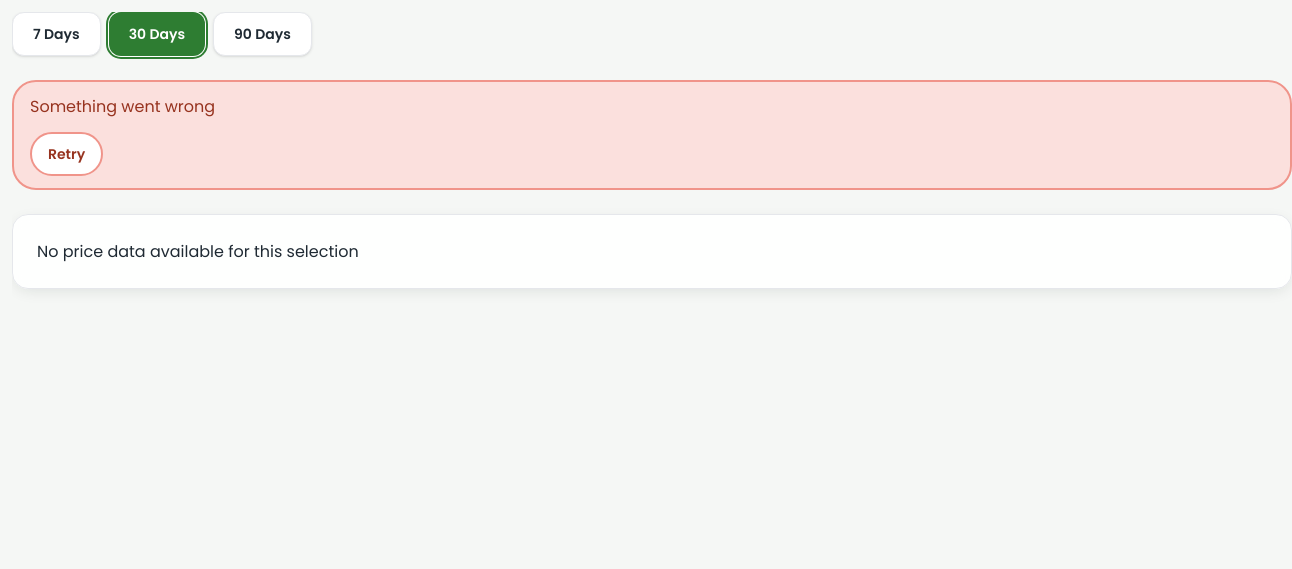
Scenario: recovers from an error via Retry
Expected: the text "Something went wrong" is shown, [30, 94, 215, 120]
Click the button "Retry". click: x=67, y=154
box: [30, 132, 103, 176]
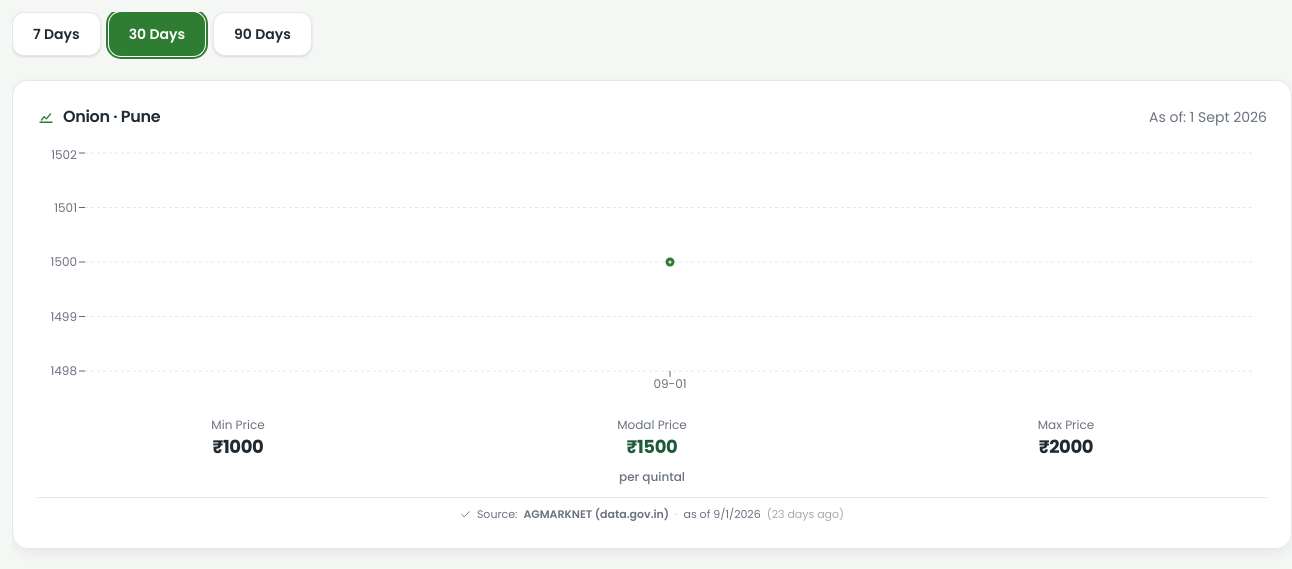
Now the heading "Onion · Pune" is shown, box [37, 105, 160, 129]
